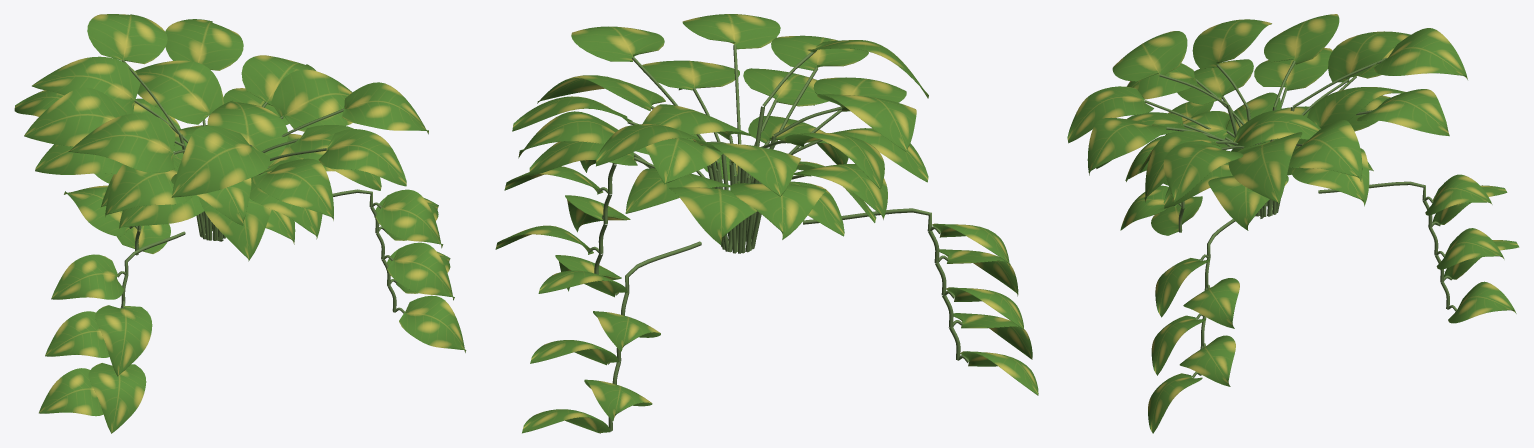
The model's file is pothos-stage-6.glb.
3 views of the same model, side by side, from view 1: azimuth 30°, elevation 25°; view 2: azimuth 150°, elevation 25°; view 3: azimuth 270°, elevation 25° (orthographic). The views are drawn at different scales.
Parts seen in each view (by area): view 1: Leaf_26, Leaf_23, Leaf_14, Leaf_20, Leaf_11, Leaf_17, Leaf_25, Leaf_22, PlantBranches, Leaf_18, Leaf_21, Leaf_24 (+22 smaller); view 2: PlantBranches, Leaf_12, Leaf_23, Leaf_9, Leaf_21, Leaf_24, Leaf_17, Leaf_14, Leaf_18, Leaf_16, Leaf_22, Leaf_1 (+27 smaller); view 3: PlantBranches, Leaf_25, Leaf_11, Leaf_19, Leaf_24, Leaf_22, Leaf_21, Leaf_26, Leaf_23, Leaf_20, Leaf_17, Leaf_18 (+27 smaller).
Boxes of the visible parts, left/top/right/bottom form: Leaf_26: left=171, top=126, right=269, bottom=197; Leaf_23: left=68, top=113, right=175, bottom=172; Leaf_14: left=135, top=60, right=223, bottom=124; Leaf_20: left=24, top=87, right=126, bottom=146; Leaf_11: left=271, top=69, right=352, bottom=131; Leaf_17: left=32, top=56, right=140, bottom=114; Leaf_25: left=87, top=14, right=167, bottom=64; Leaf_22: left=165, top=19, right=243, bottom=70; PlantBranches: left=117, top=59, right=405, bottom=313; Leaf_18: left=253, top=158, right=333, bottom=220; Leaf_21: left=318, top=129, right=406, bottom=186; Leaf_24: left=342, top=82, right=428, bottom=134; PlantBranches: left=587, top=44, right=969, bottom=433; Leaf_12: left=730, top=183, right=826, bottom=239; Leaf_23: left=817, top=94, right=916, bottom=151; Leaf_9: left=669, top=187, right=757, bottom=245; Leaf_21: left=682, top=14, right=780, bottom=49; Leaf_24: left=571, top=26, right=664, bottom=61; Leaf_17: left=705, top=142, right=800, bottom=196; Leaf_14: left=645, top=138, right=722, bottom=184; Leaf_18: left=771, top=35, right=868, bottom=70; Leaf_16: left=642, top=60, right=739, bottom=90; Leaf_22: left=518, top=111, right=618, bottom=158; Leaf_1: left=625, top=168, right=730, bottom=213; PlantBranches: left=1144, top=58, right=1457, bottom=378; Leaf_25: left=1374, top=28, right=1467, bottom=79; Leaf_11: left=1228, top=132, right=1302, bottom=203; Leaf_19: left=1289, top=120, right=1362, bottom=181; Leaf_24: left=1163, top=140, right=1243, bottom=202; Leaf_22: left=1356, top=89, right=1449, bottom=136; Leaf_21: left=1087, top=117, right=1166, bottom=175; Leaf_26: left=1112, top=31, right=1187, bottom=81; Leaf_23: left=1192, top=19, right=1271, bottom=68; Leaf_20: left=1264, top=14, right=1339, bottom=64; Leaf_17: left=1328, top=31, right=1410, bottom=82; Leaf_18: left=1067, top=86, right=1153, bottom=143.
Bounding box in the file's own units: 3.21 × 2.05 × 2.9.
Materials: 2 (1 with a texture image).
